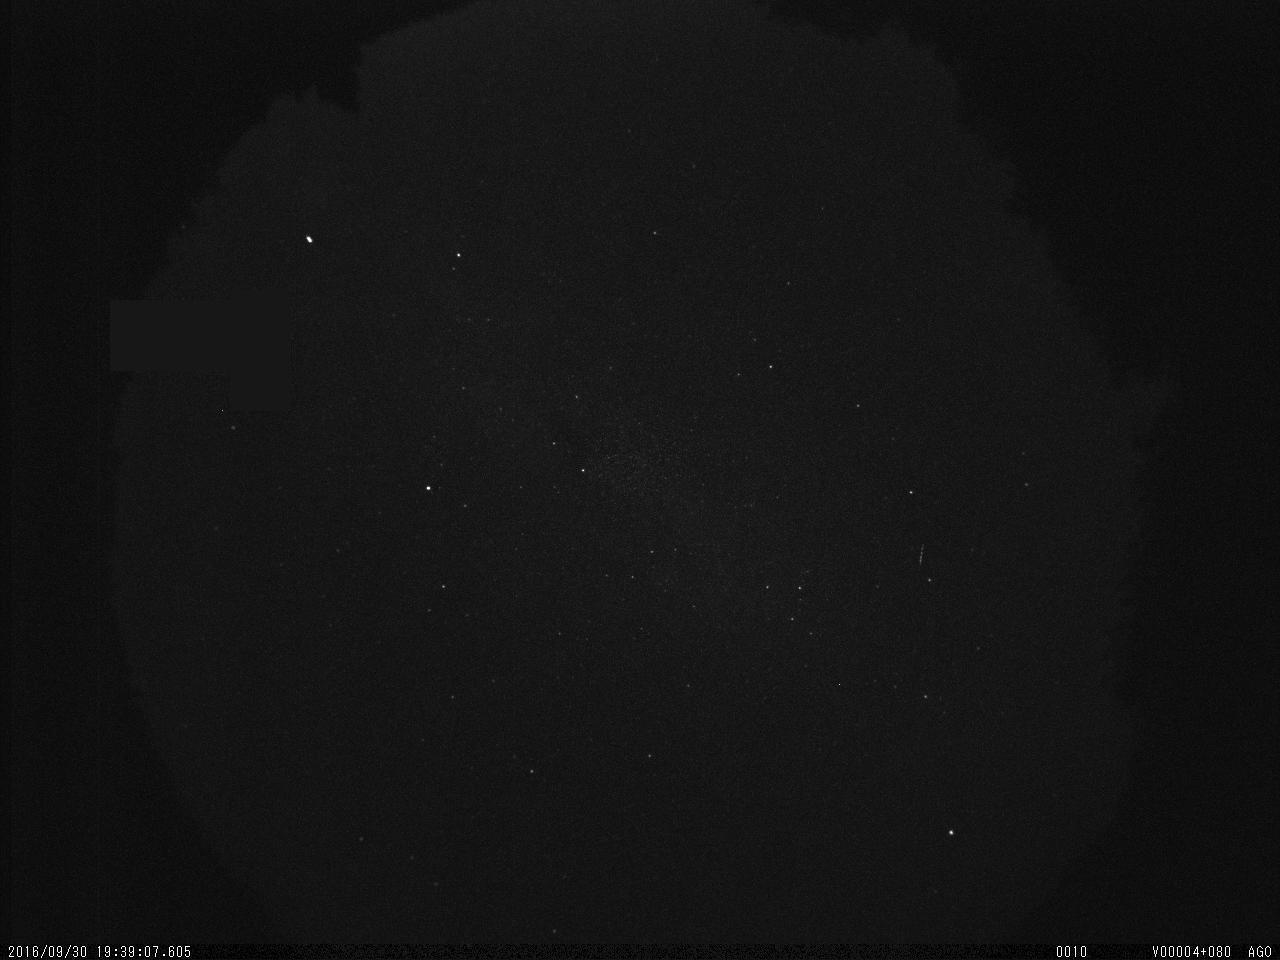meteor: (905, 536, 938, 573)
